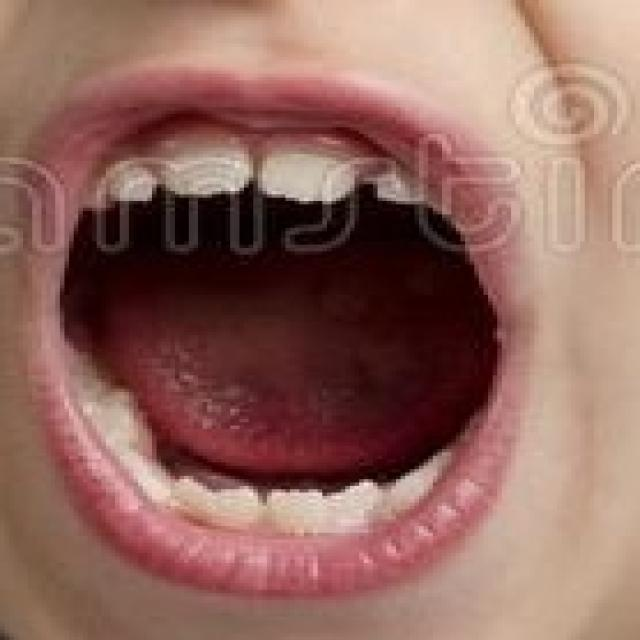open-mouth: (0, 54, 534, 596)
